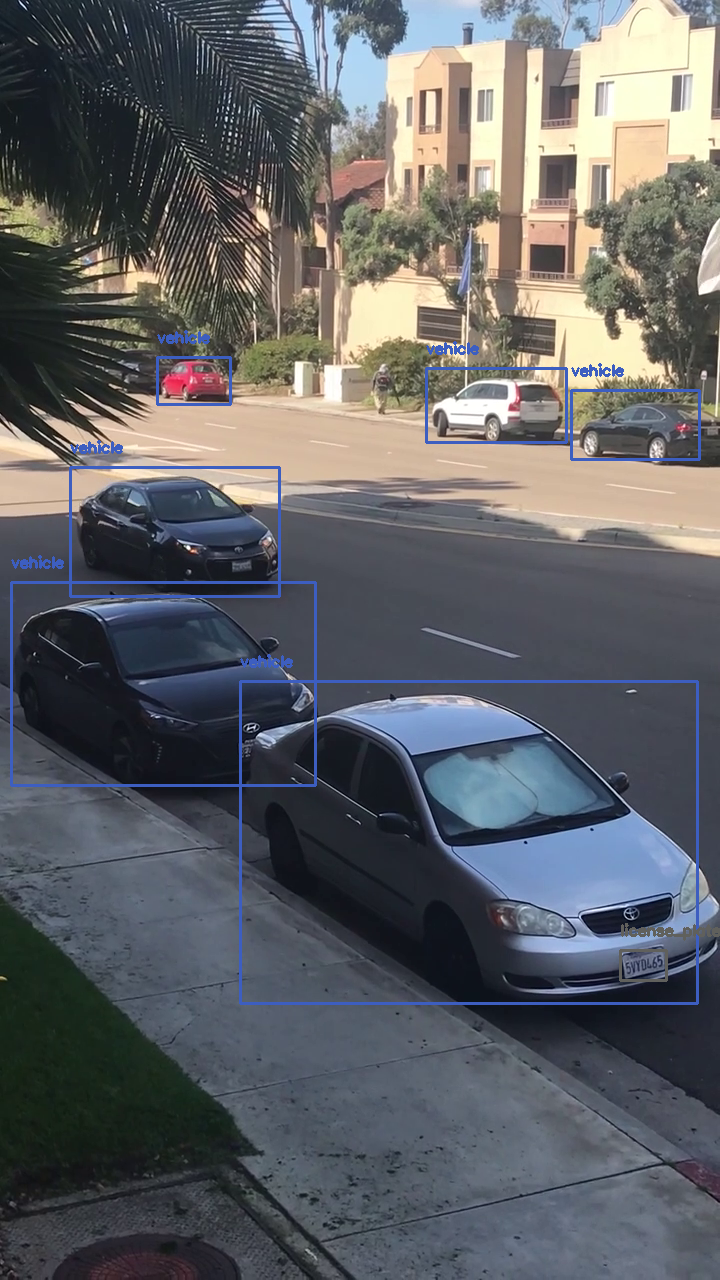license_plate: (620, 950, 666, 980)
vehicle: (240, 681, 697, 1003), (11, 582, 315, 785), (70, 467, 279, 596), (426, 368, 566, 442), (571, 390, 699, 459), (157, 357, 230, 404)
